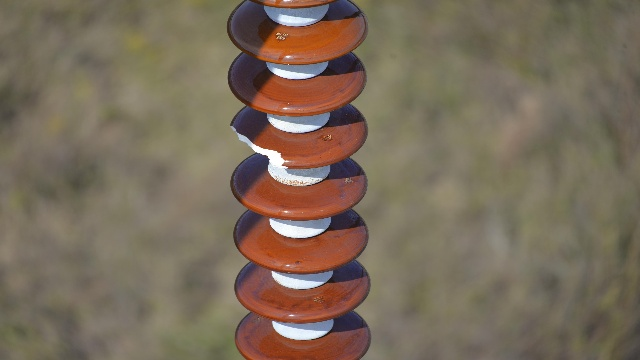broken_local: (228, 119, 290, 169)
insulator_unspecified: (226, 0, 374, 359)
